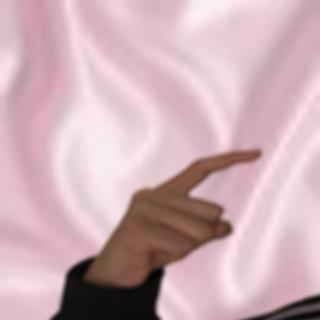WHY: (84, 133, 273, 287)
